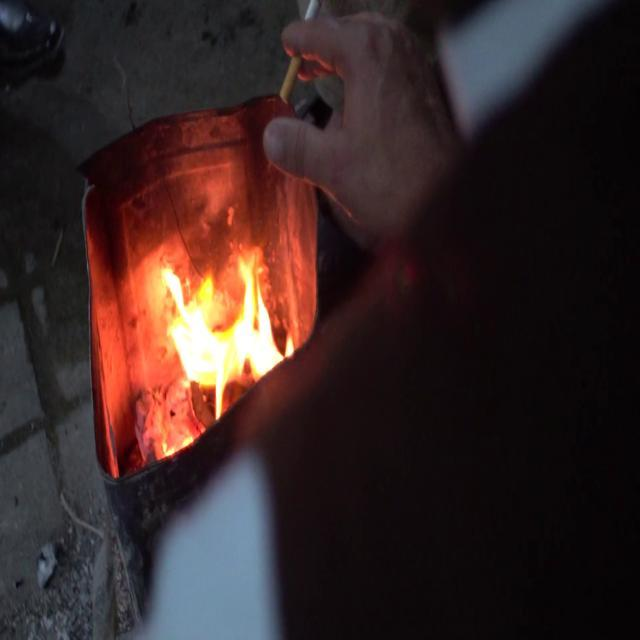Fire: (148, 238, 292, 404)
